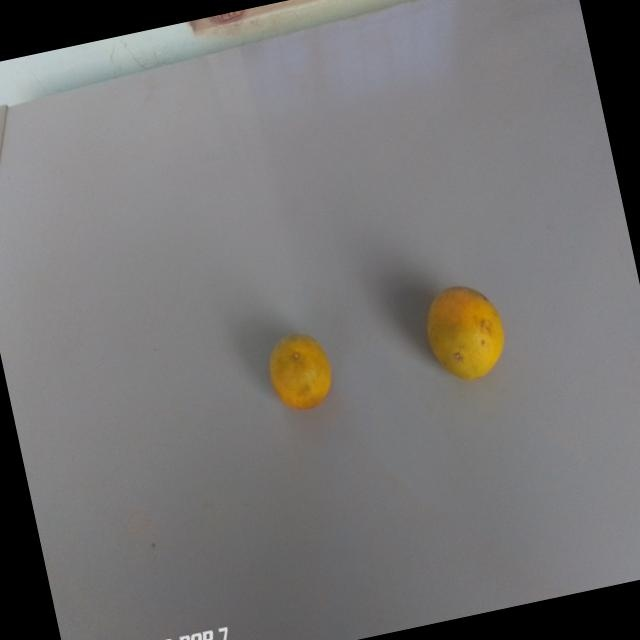agrume: (402, 268, 518, 392), (244, 311, 355, 431)
